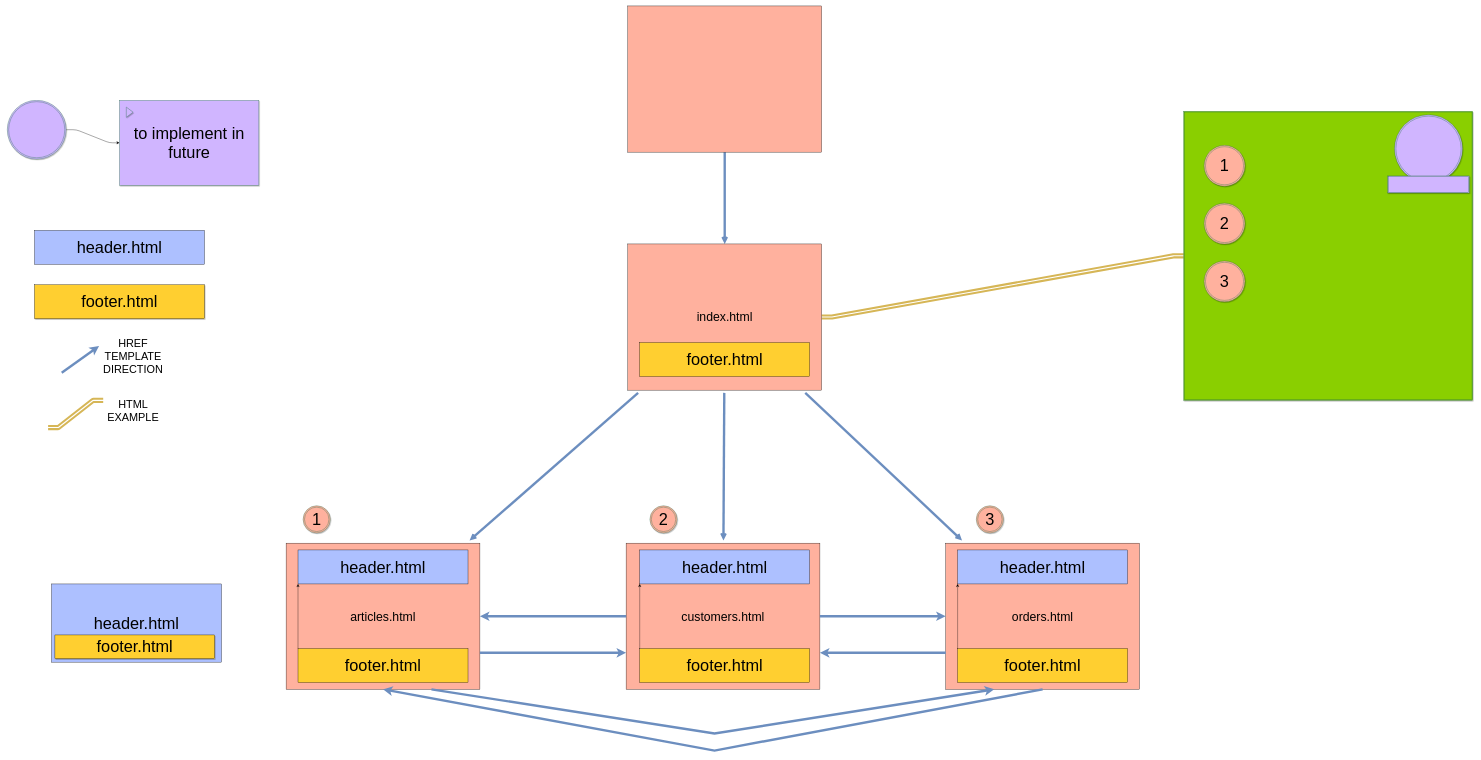
Image size: 1481x760. Some labels were removed from this diagram. Each missing label, with the centre of its shape:
"login.html" belongs at point (724, 79).
"user picture" belongs at point (1429, 149).
"username" belongs at point (1428, 184).
